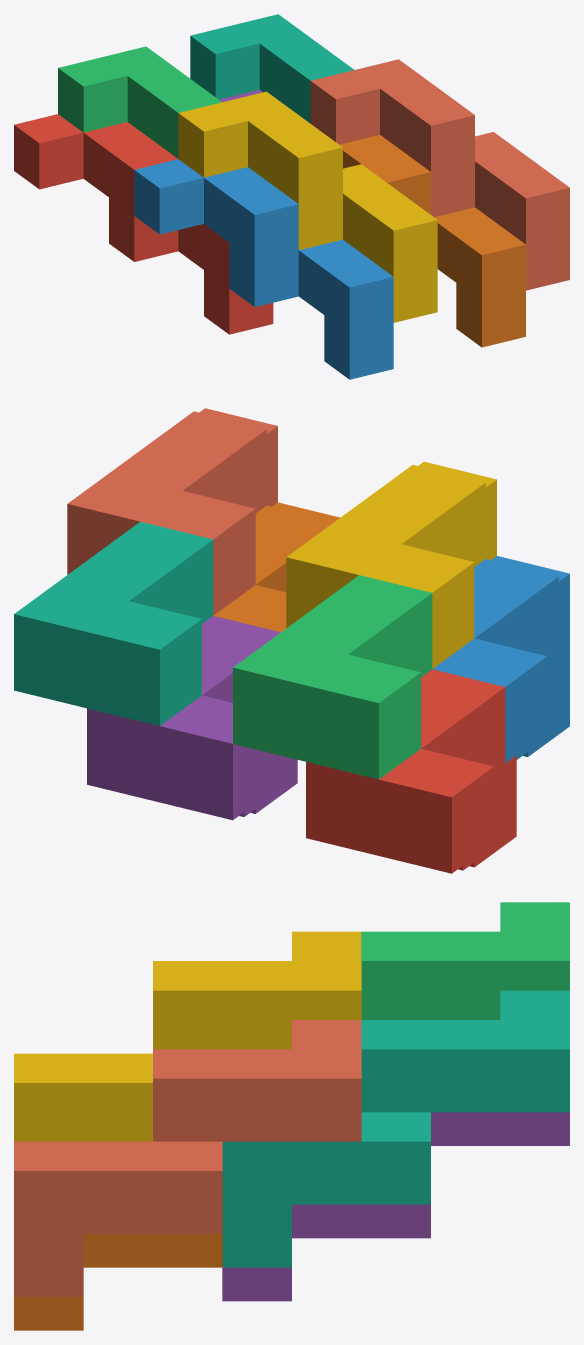
The model's file is tiling.obj.
The picture shows the model from 3 angles, top to bottom: view 1: azimuth 30°, elevation 25°; view 2: azimuth 150°, elevation 25°; view 3: azimuth 270°, elevation 25°; orthographic projection. The views are drawn at different scales.
Parts seen in each view (by area): view 1: copy_1_domain_2, copy_1_domain_4, copy_1_domain_8, copy_1_domain_1, copy_1_domain_6, copy_1_domain_3, copy_1_domain_7; view 2: copy_1_domain_3, copy_1_domain_7, copy_1_domain_1, copy_1_domain_8, copy_1_domain_4, copy_1_domain_5, copy_1_domain_2, copy_1_domain_6; view 3: copy_1_domain_8, copy_1_domain_7, copy_1_domain_4, copy_1_domain_3, copy_1_domain_5, copy_1_domain_6.
Part boxes in pixels (box(x1,y1,x2,y2)): copy_1_domain_2: box(134, 159, 393, 379); copy_1_domain_4: box(178, 91, 437, 322); copy_1_domain_8: box(310, 59, 569, 290); copy_1_domain_1: box(14, 114, 273, 334); copy_1_domain_6: box(339, 135, 525, 347); copy_1_domain_3: box(58, 46, 221, 158); copy_1_domain_7: box(190, 14, 353, 123); copy_1_domain_3: box(233, 575, 432, 779); copy_1_domain_7: box(14, 521, 213, 725); copy_1_domain_1: box(306, 669, 516, 873); copy_1_domain_8: box(67, 408, 277, 615); copy_1_domain_4: box(286, 461, 496, 668); copy_1_domain_5: box(87, 616, 297, 820); copy_1_domain_2: box(432, 556, 569, 762); copy_1_domain_6: box(213, 502, 339, 632); copy_1_domain_8: box(14, 1020, 361, 1296); copy_1_domain_7: box(222, 990, 569, 1267); copy_1_domain_4: box(14, 931, 361, 1141); copy_1_domain_3: box(361, 902, 569, 1019); copy_1_domain_5: box(222, 1112, 569, 1301); copy_1_domain_6: box(14, 1234, 222, 1330).
Bounding box in the file's own units: 8 × 4 × 8.
